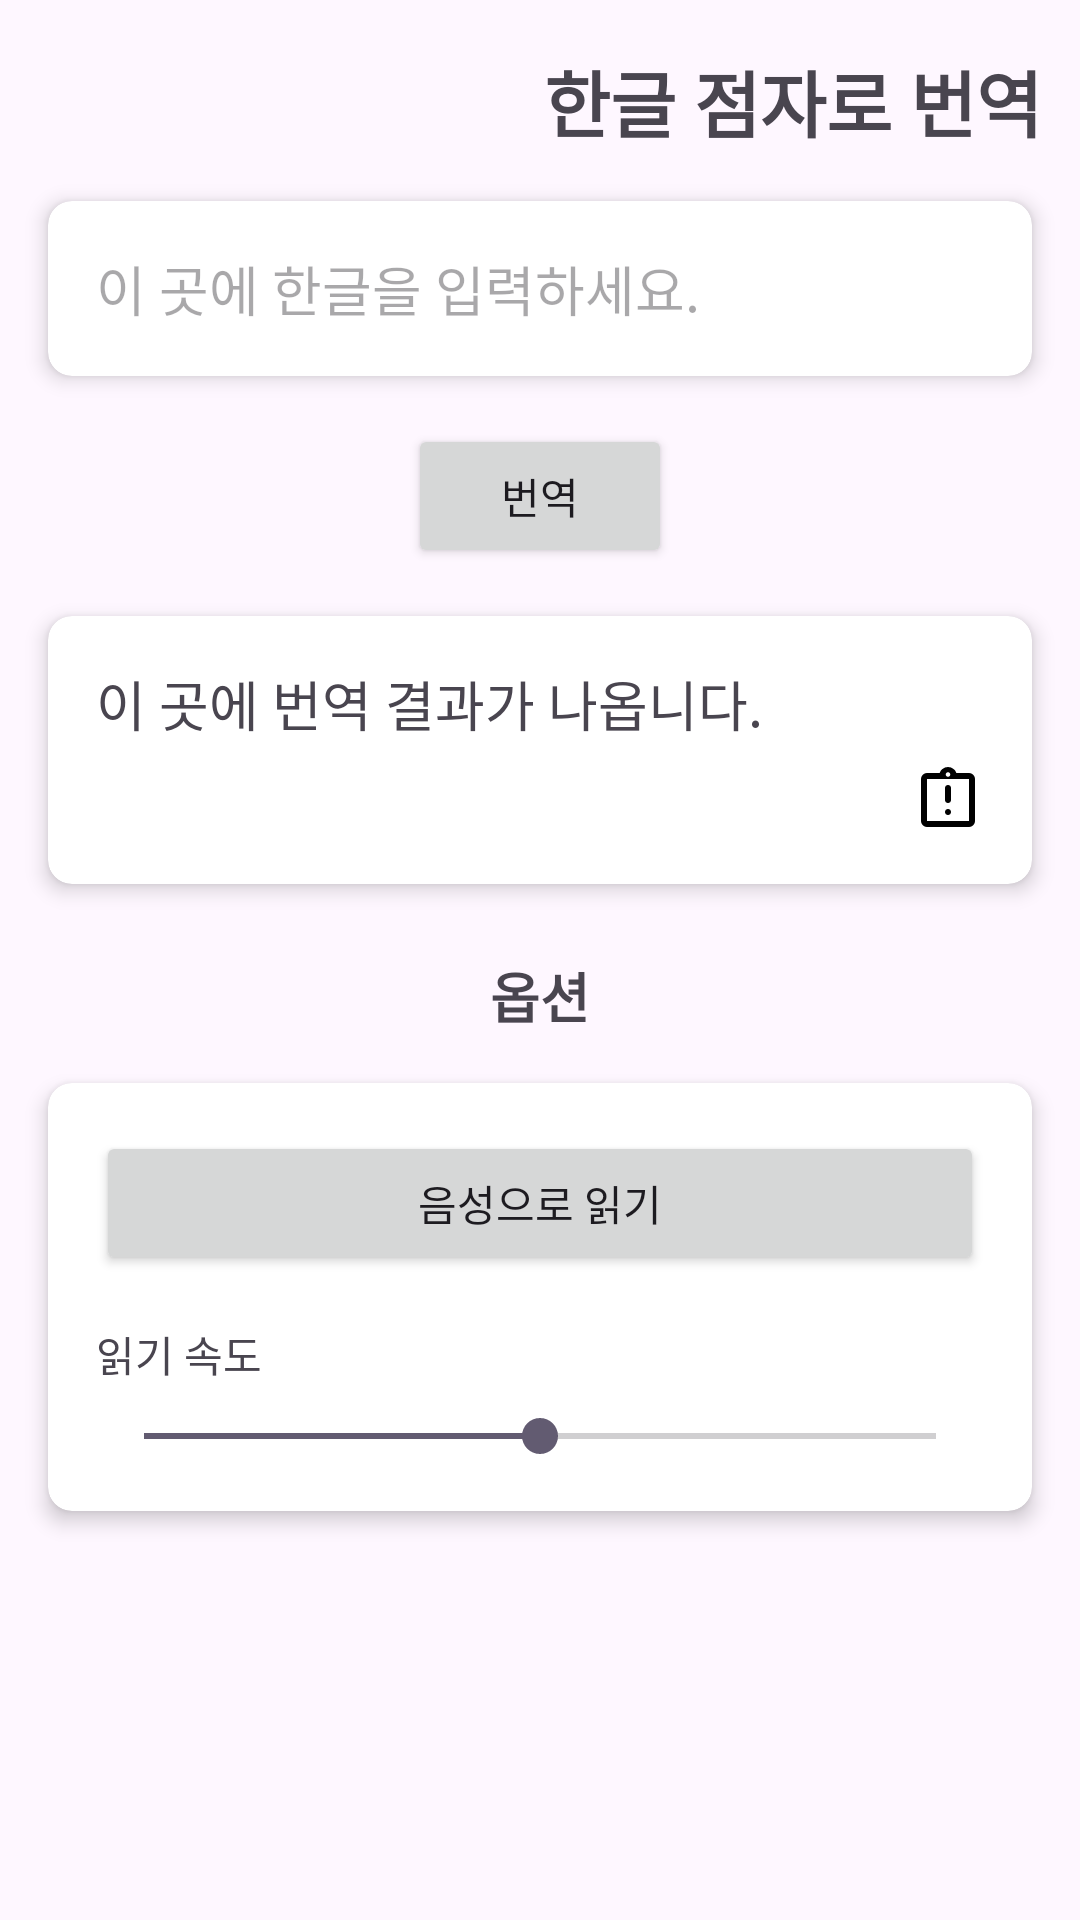

Where to tap for icons on this 1080x1920 app screen, as (x,y):
feedback: (948,797)
